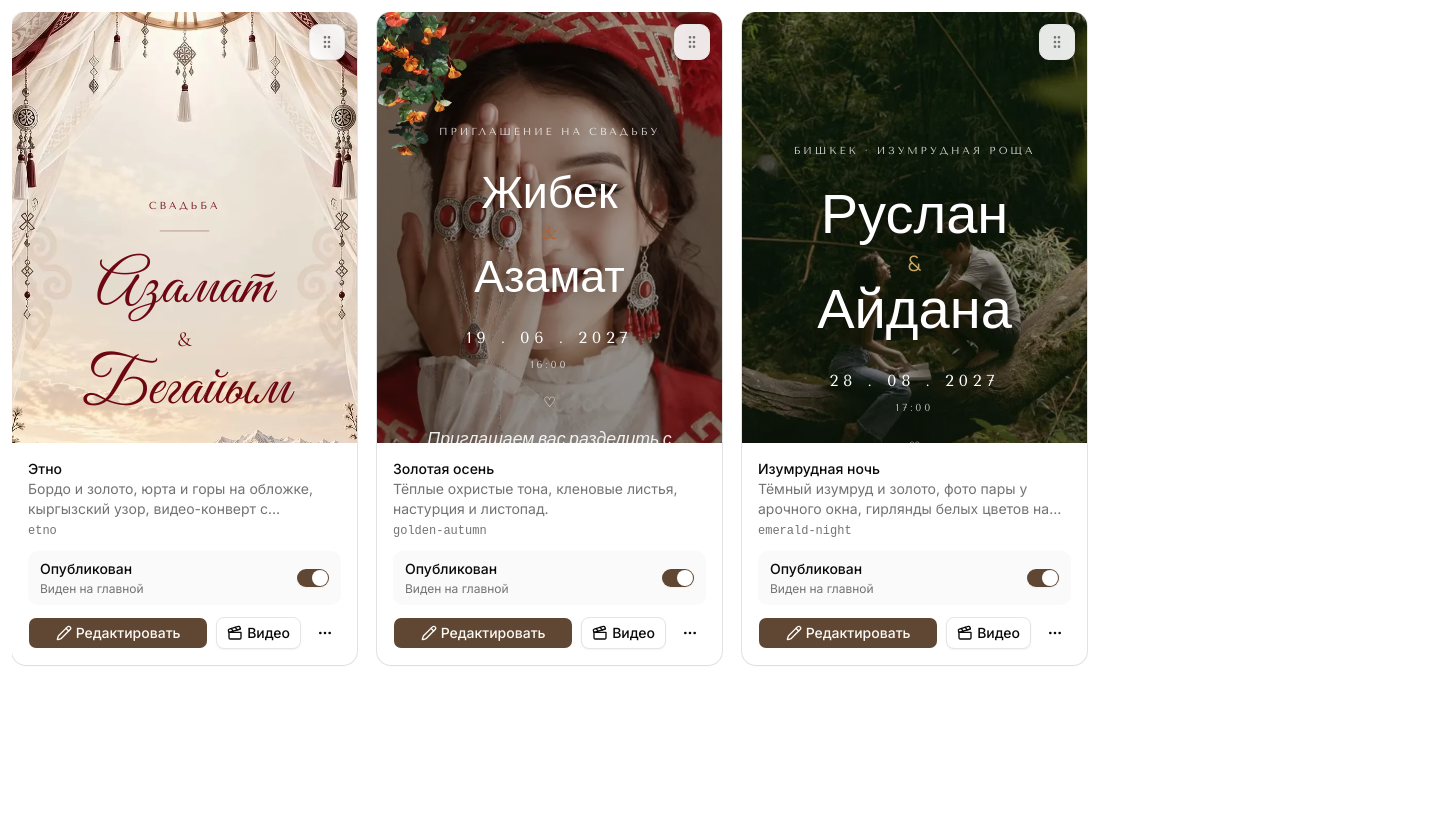
Test case: админка: шаблоны › порядок: ручка перетаскивания у каждой карточки; «Переместить позже» сразу меняет порядок и сохраняет его, ошибка — откат
Note: У первого нет «раньше», у последнего — «позже».
Click the button named "Ещё действия с шаблоном «Этно»" at x=325, y=633, box [309, 617, 341, 649]
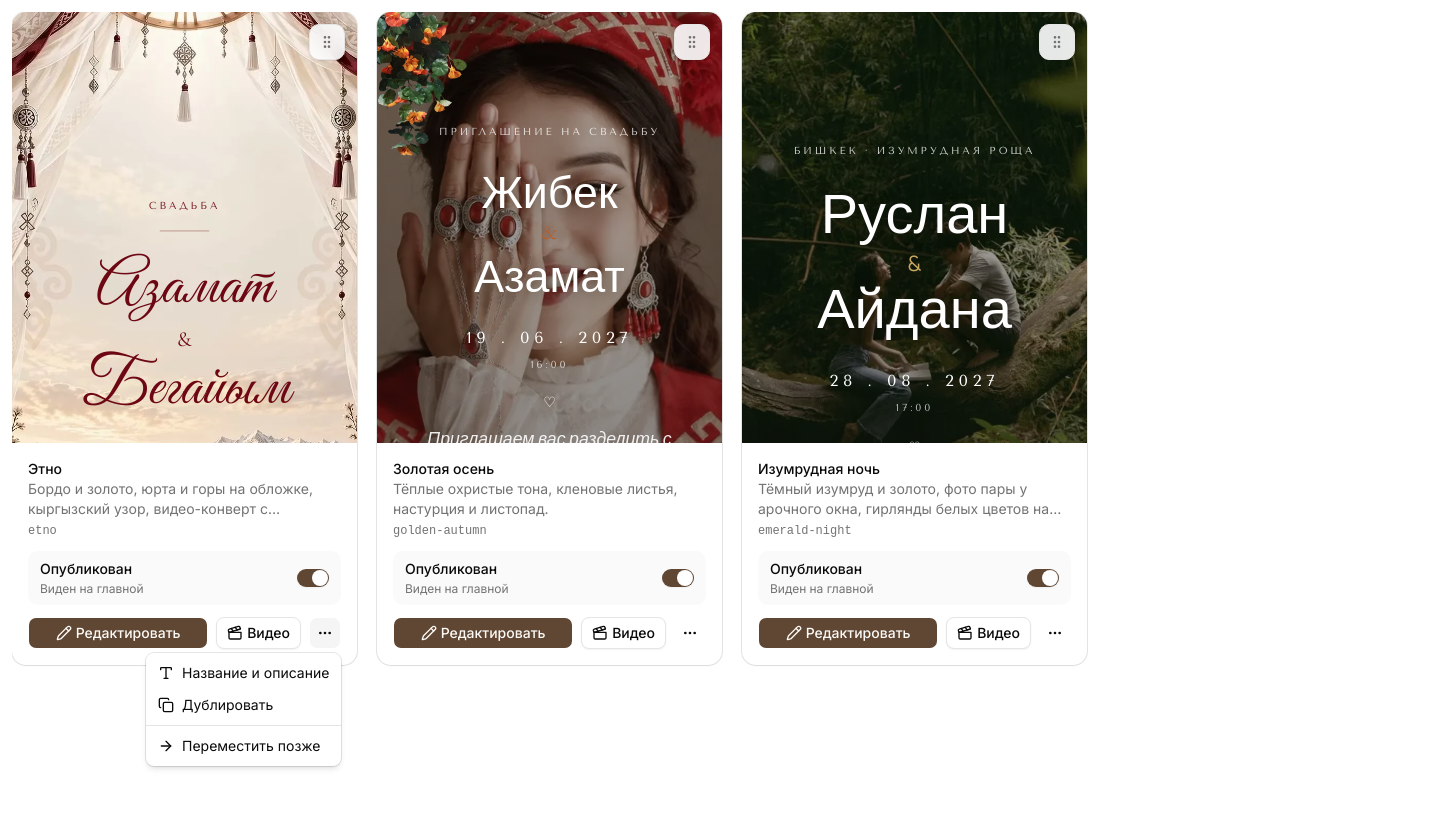
Check: the menu item "Переместить раньше" is not shown
Click the menu item "Переместить позже" at x=239, y=746, box [158, 737, 320, 754]
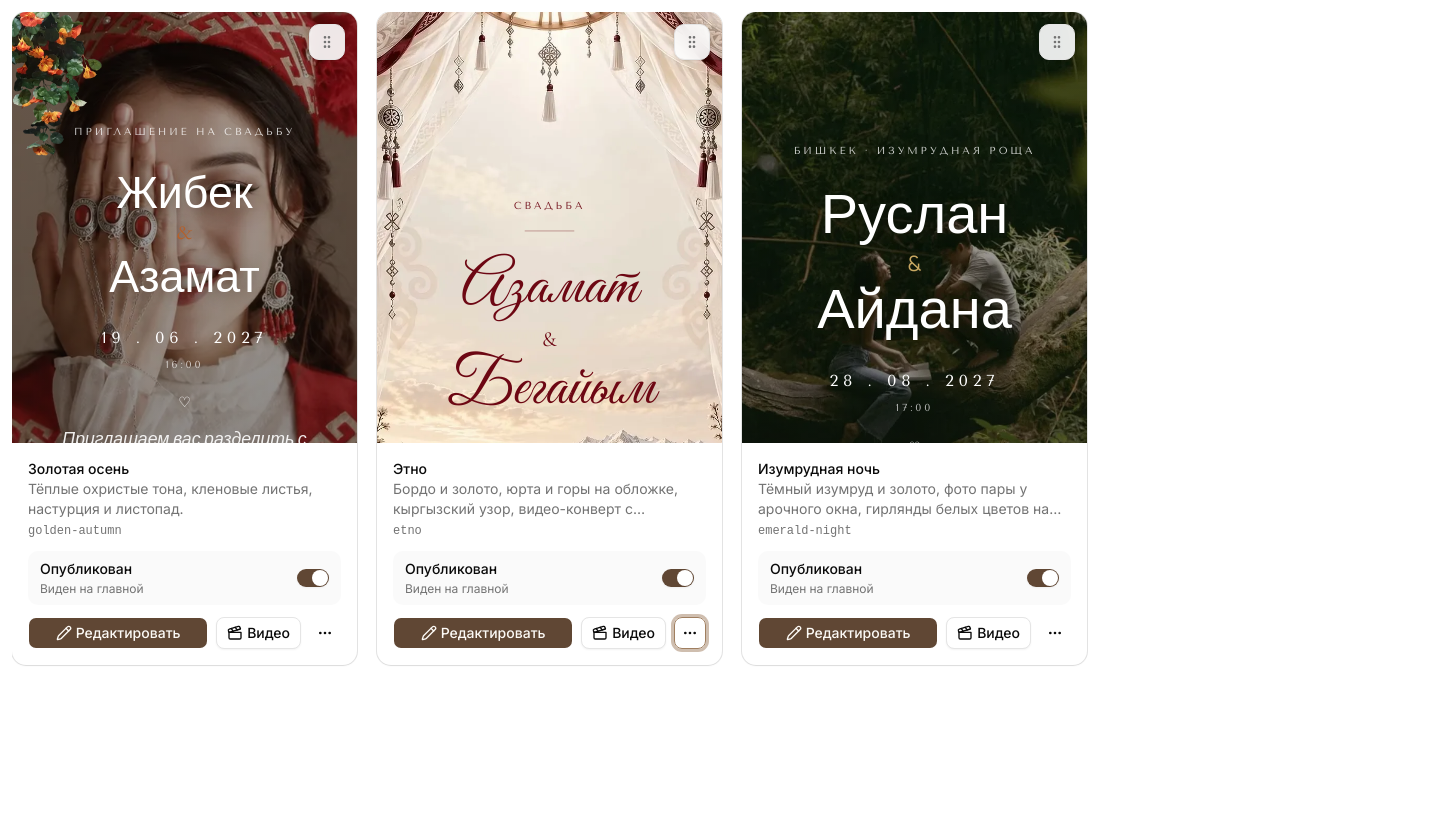
Click the button named "Ещё действия с шаблоном «Изумрудная ночь»" at x=1055, y=633, box [1039, 617, 1071, 649]
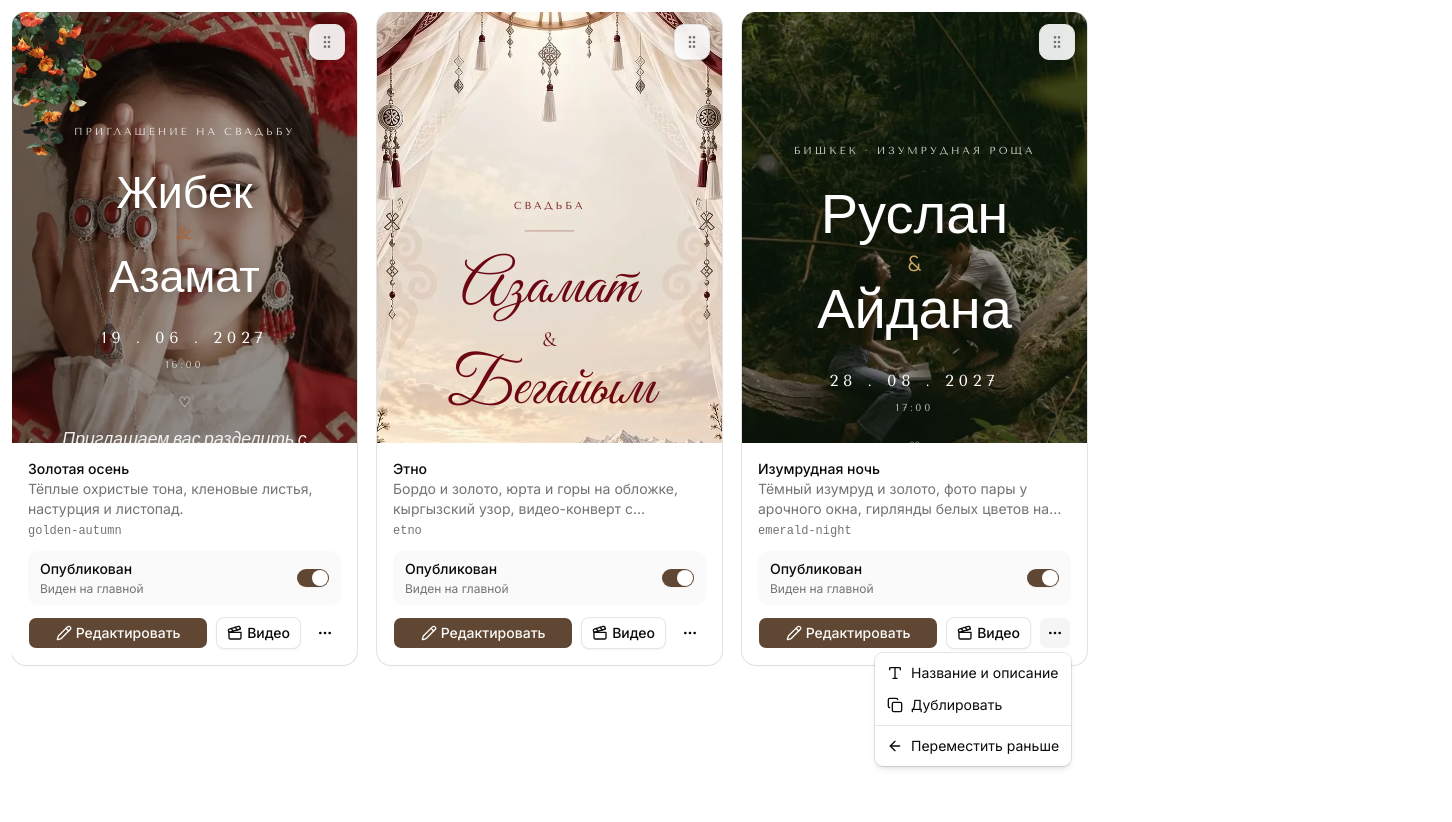
Check: the menu item "Переместить позже" is not shown
Click the menu item "Переместить раньше" at x=973, y=746, box [887, 737, 1059, 754]
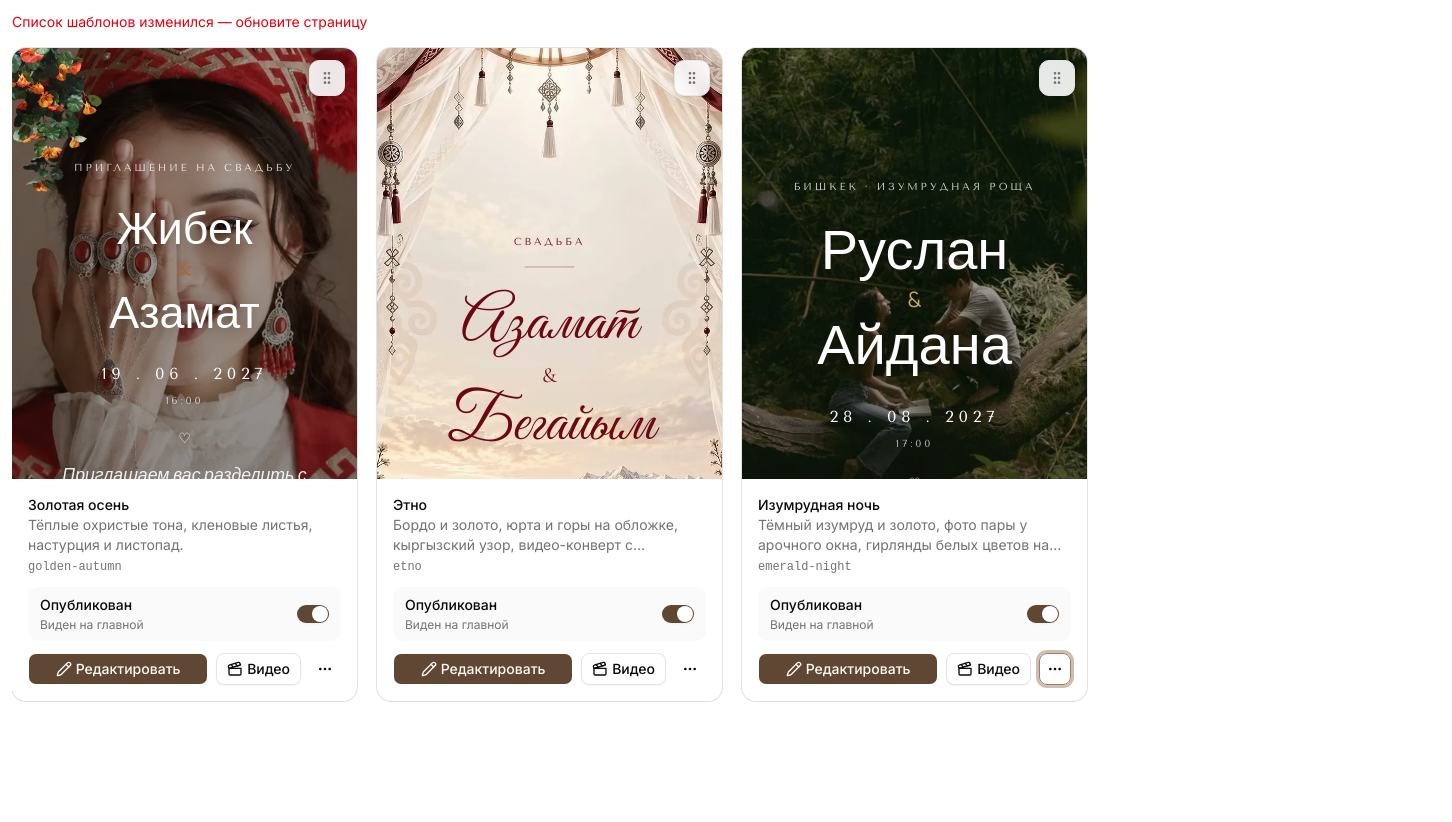
Check: the message shows "Список шаблонов изменился", box [12, 13, 367, 30]
